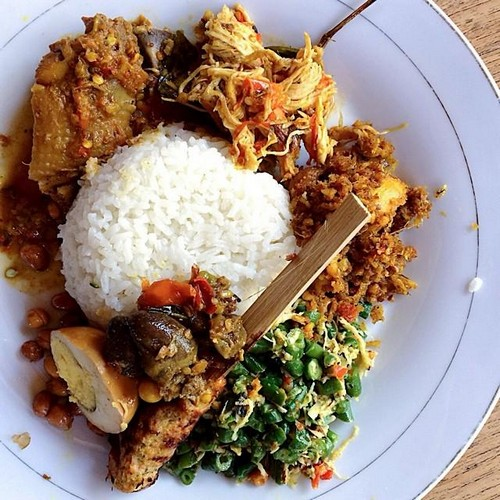nasi campur bali: (37, 40, 412, 488)
